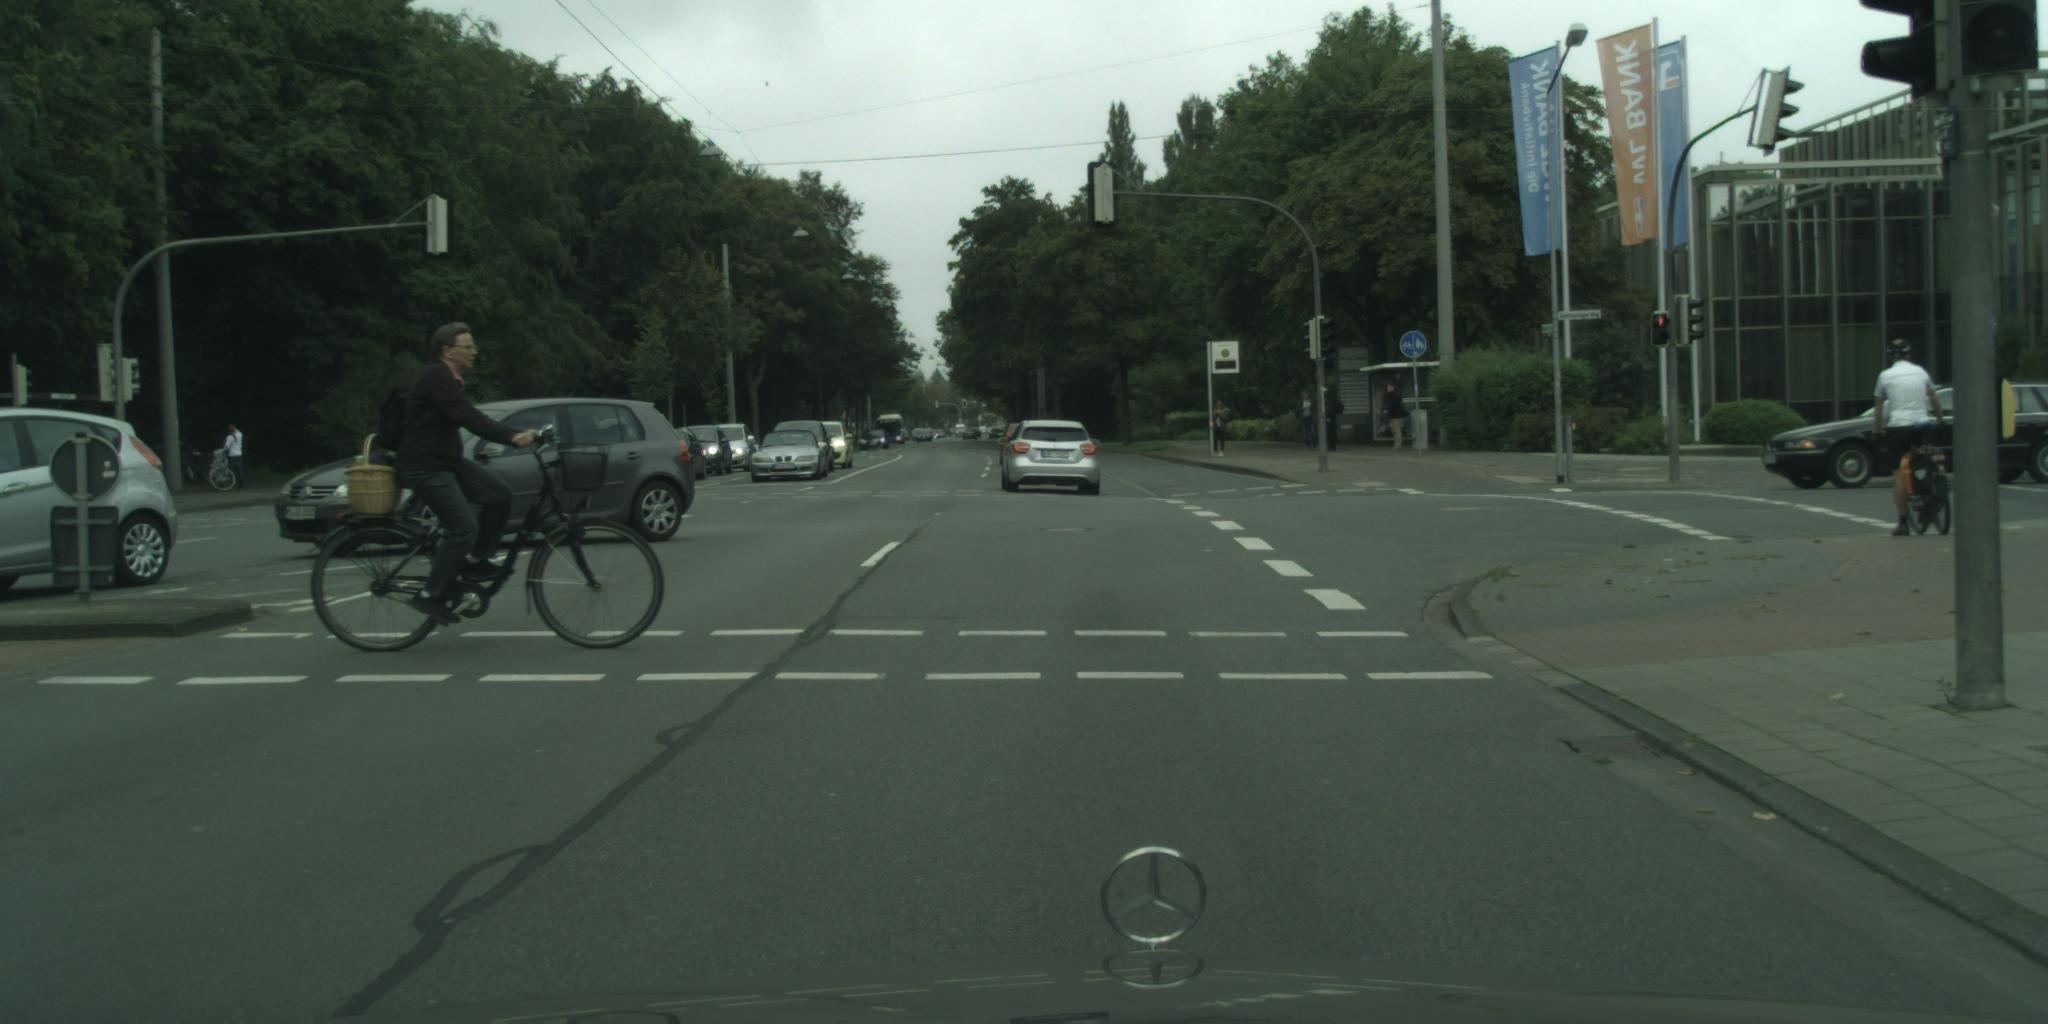bicycle: (311, 424, 664, 653), (1900, 418, 1952, 535)
bus: (873, 413, 904, 444)
car: (275, 399, 695, 557), (0, 407, 178, 591), (1762, 380, 2048, 490), (998, 420, 1100, 495), (751, 430, 829, 482), (773, 421, 834, 471), (679, 425, 732, 476), (714, 423, 756, 472), (670, 427, 707, 480), (816, 421, 853, 469), (998, 423, 1029, 465), (859, 429, 890, 451), (917, 429, 933, 443), (989, 428, 1004, 440), (964, 429, 977, 440), (912, 428, 924, 442), (955, 424, 965, 436), (969, 427, 981, 438), (900, 428, 909, 441), (978, 427, 987, 434)
person: (1873, 338, 1944, 536), (216, 424, 245, 488), (1293, 389, 1321, 450), (1382, 383, 1406, 452), (1321, 385, 1344, 453), (1211, 401, 1229, 457)
rider: (377, 322, 542, 624)
